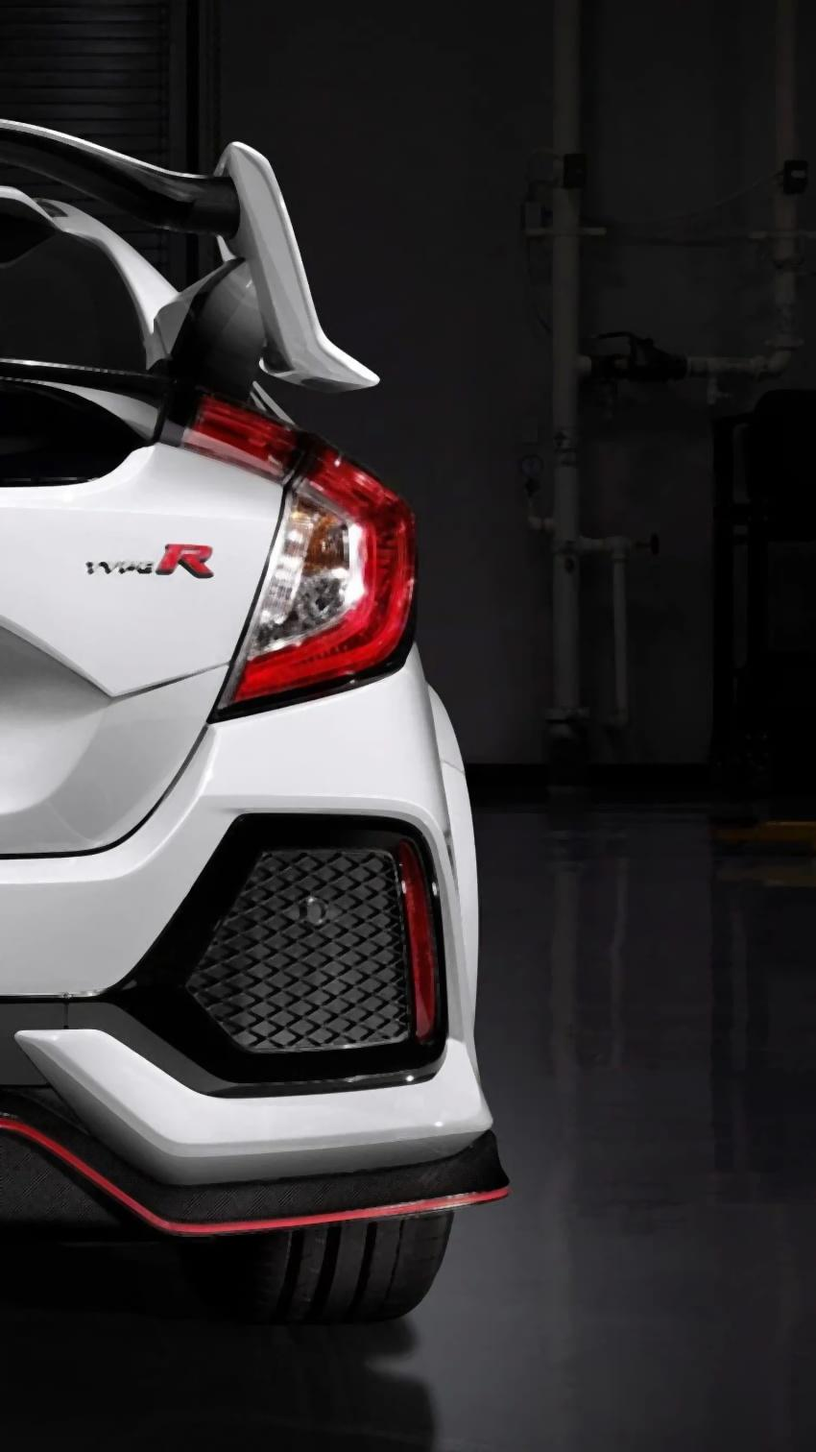Car boot: (0, 317, 352, 874)
Rear bumper: (0, 678, 544, 1258)
Rear light - -R-: (135, 349, 434, 742)
